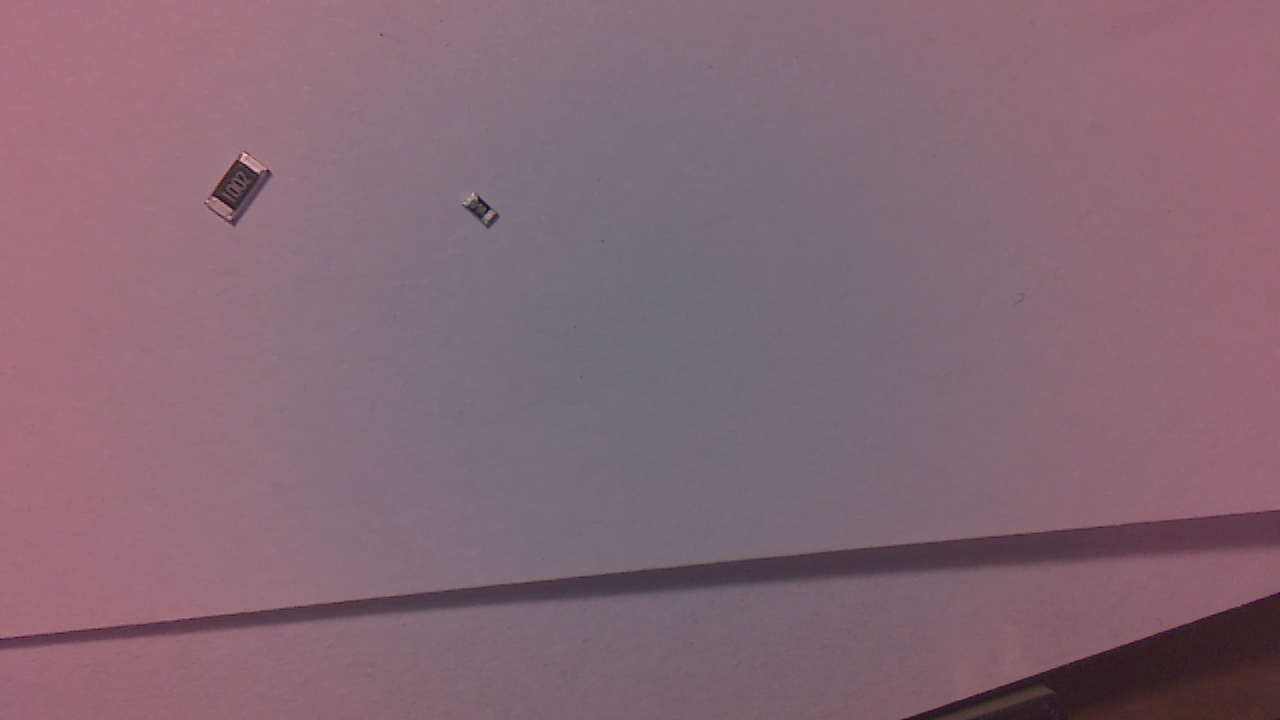Resistor: (210, 155, 278, 230), (467, 197, 506, 236)
